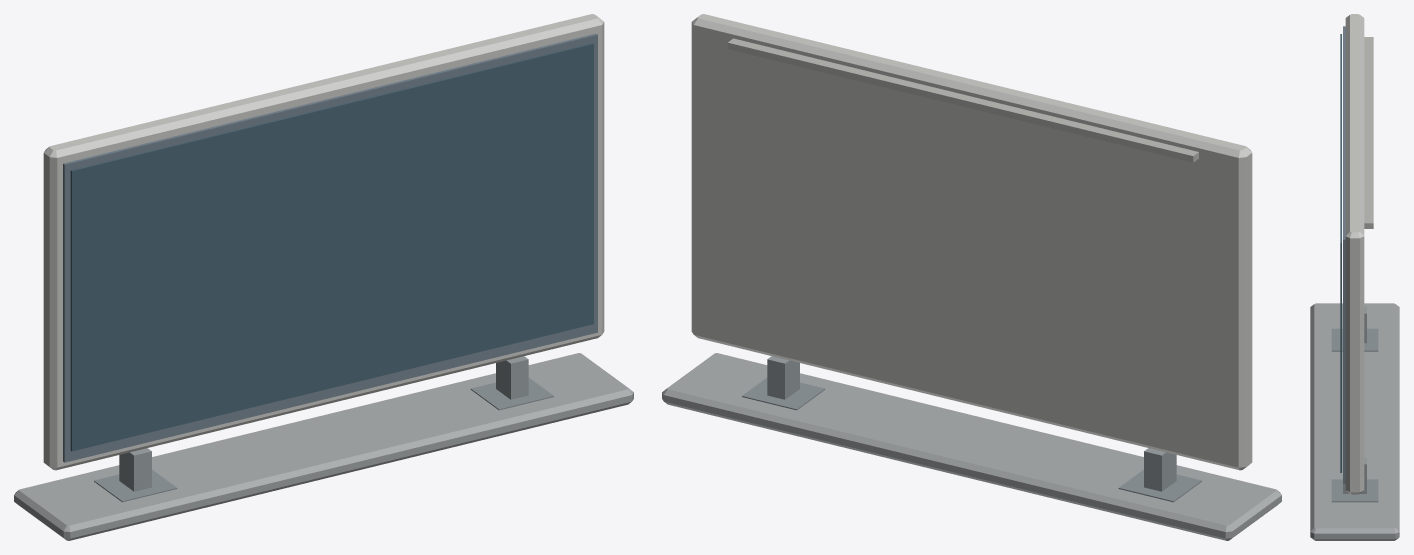
The model's file is console.glb.
3 renders of one model, left to right at view 1: azimuth 30°, elevation 25°; view 2: azimuth 150°, elevation 25°; view 3: azimuth 270°, elevation 25°, orthographic. The views are drawn at different scales.
Visible parts, largest first — view 1: console; view 2: console; view 3: console.
Boxes of the visible parts, left/top/right/bottom form: console: left=14, top=14, right=633, bottom=540; console: left=662, top=14, right=1281, bottom=540; console: left=1310, top=14, right=1399, bottom=540.
Size of the model in its own units: 10.9 by 6.8 by 1.8.
